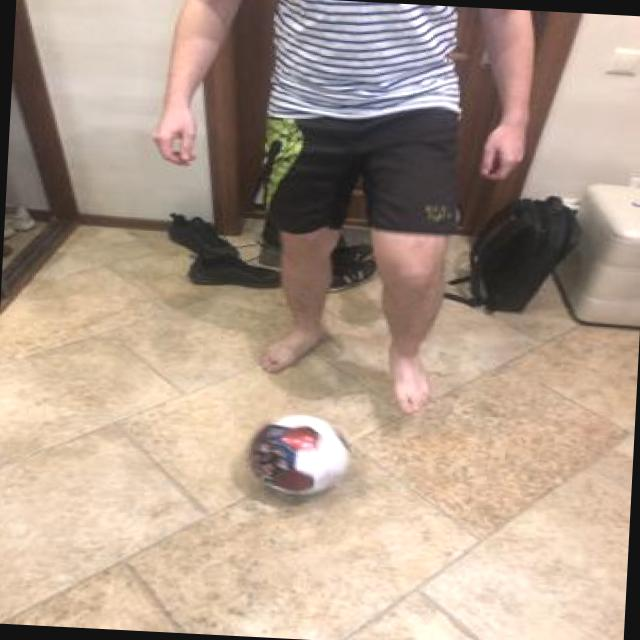Soccer Ball: (240, 409, 354, 498)
